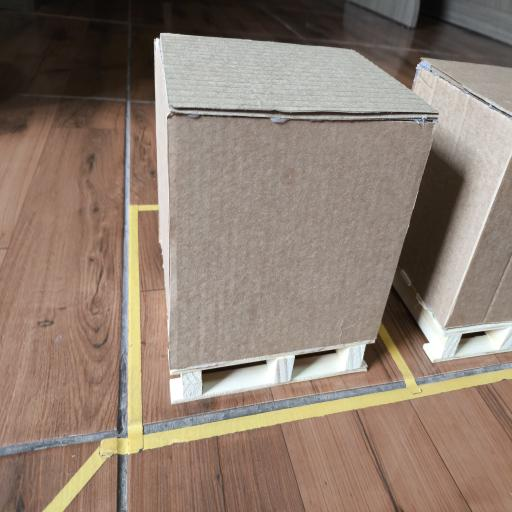pallet: (170, 341, 374, 403), (393, 267, 511, 362)
